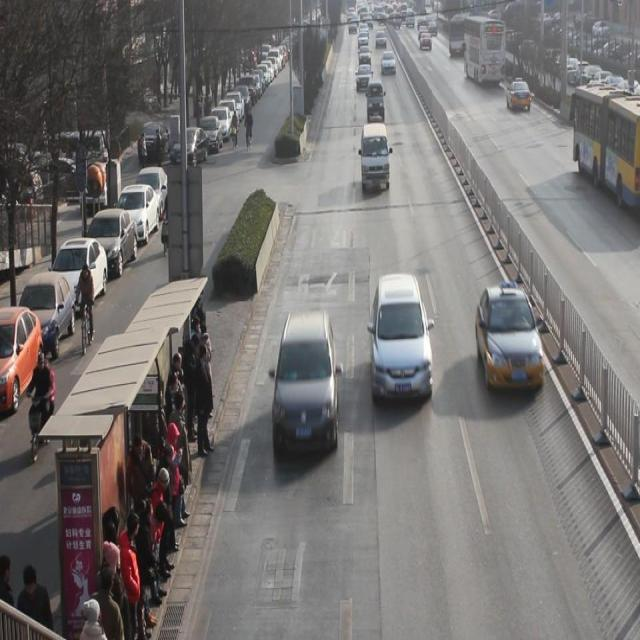car: (271, 315, 339, 459), (369, 274, 434, 405), (477, 284, 546, 396), (507, 80, 533, 113), (356, 64, 374, 95), (382, 52, 396, 78), (358, 46, 372, 68)
truck: (361, 124, 391, 194), (367, 79, 386, 125)
van: (572, 83, 640, 211), (462, 15, 505, 86)
